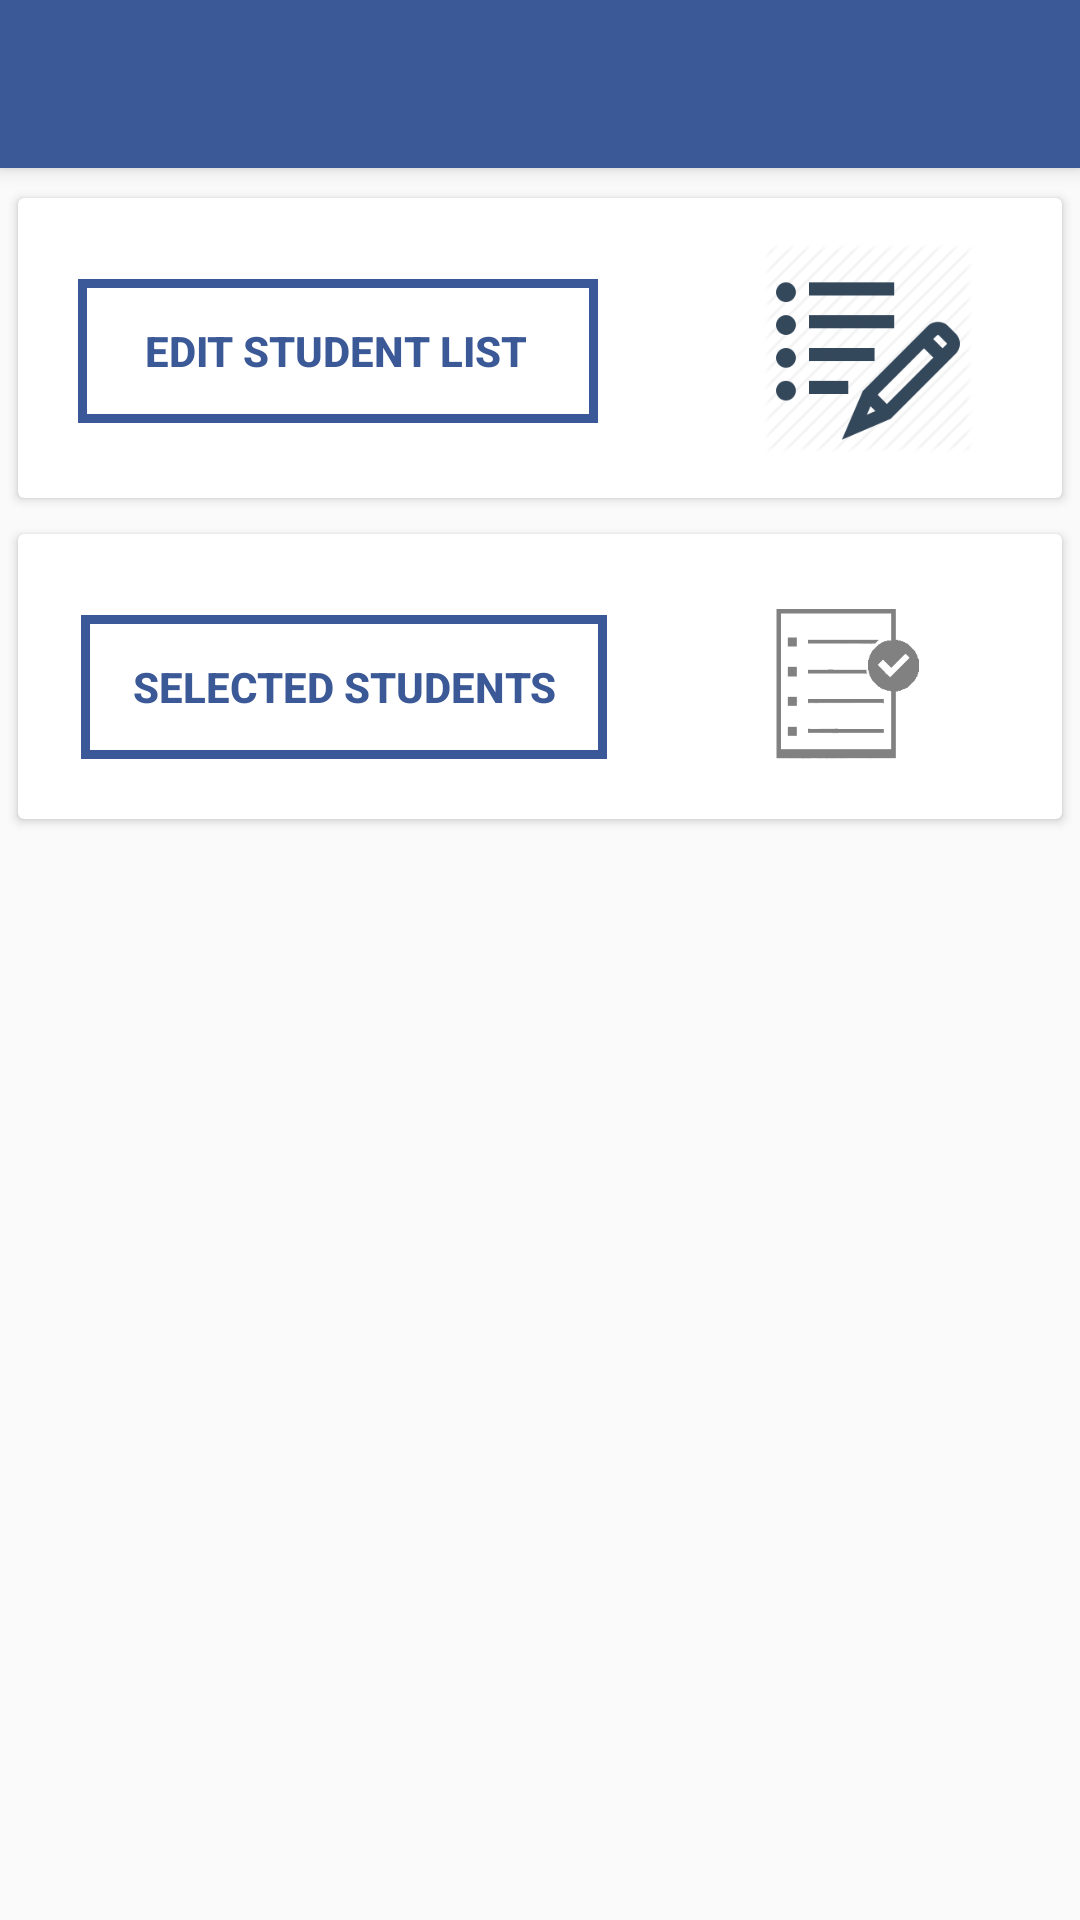

Icons on this 1080px×1920px Android screen, each with its box as (x1, y1, x2, y2):
editlist: (776, 282, 960, 440)
shortlistgrey: (776, 609, 919, 759)
